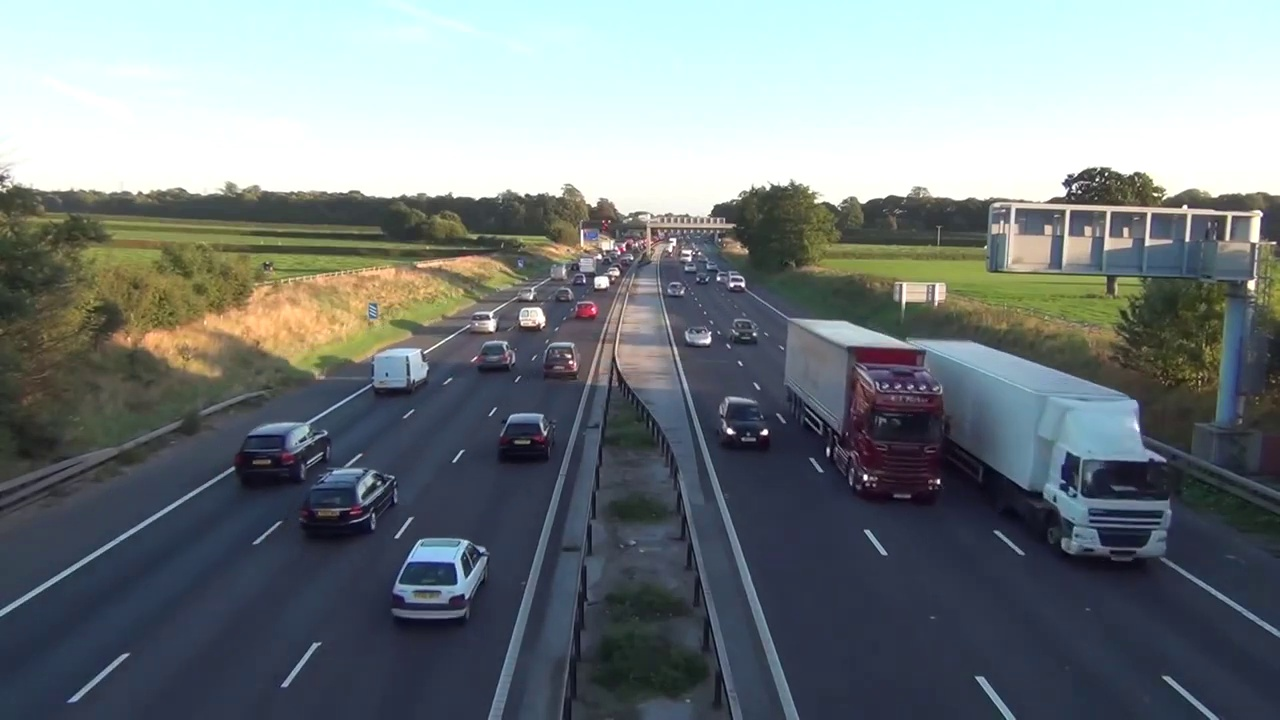bus: (389, 538, 490, 623), (300, 469, 399, 533), (235, 421, 332, 483), (498, 413, 557, 461), (717, 397, 771, 449), (542, 342, 581, 379), (478, 341, 516, 371), (731, 318, 757, 344), (470, 312, 499, 334), (684, 326, 712, 346), (575, 302, 599, 319), (667, 282, 685, 298), (517, 289, 536, 302), (554, 288, 573, 301), (695, 273, 709, 284)
car: (908, 337, 1174, 566), (787, 320, 945, 502)
lorry: (371, 349, 430, 394), (519, 307, 546, 329), (727, 271, 745, 292), (594, 276, 609, 289)
